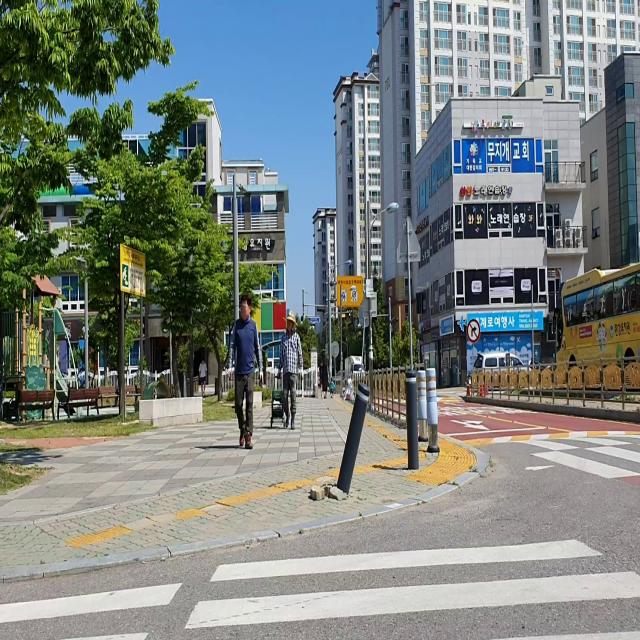횡단보도: (0, 535, 640, 640), (499, 436, 640, 483)
